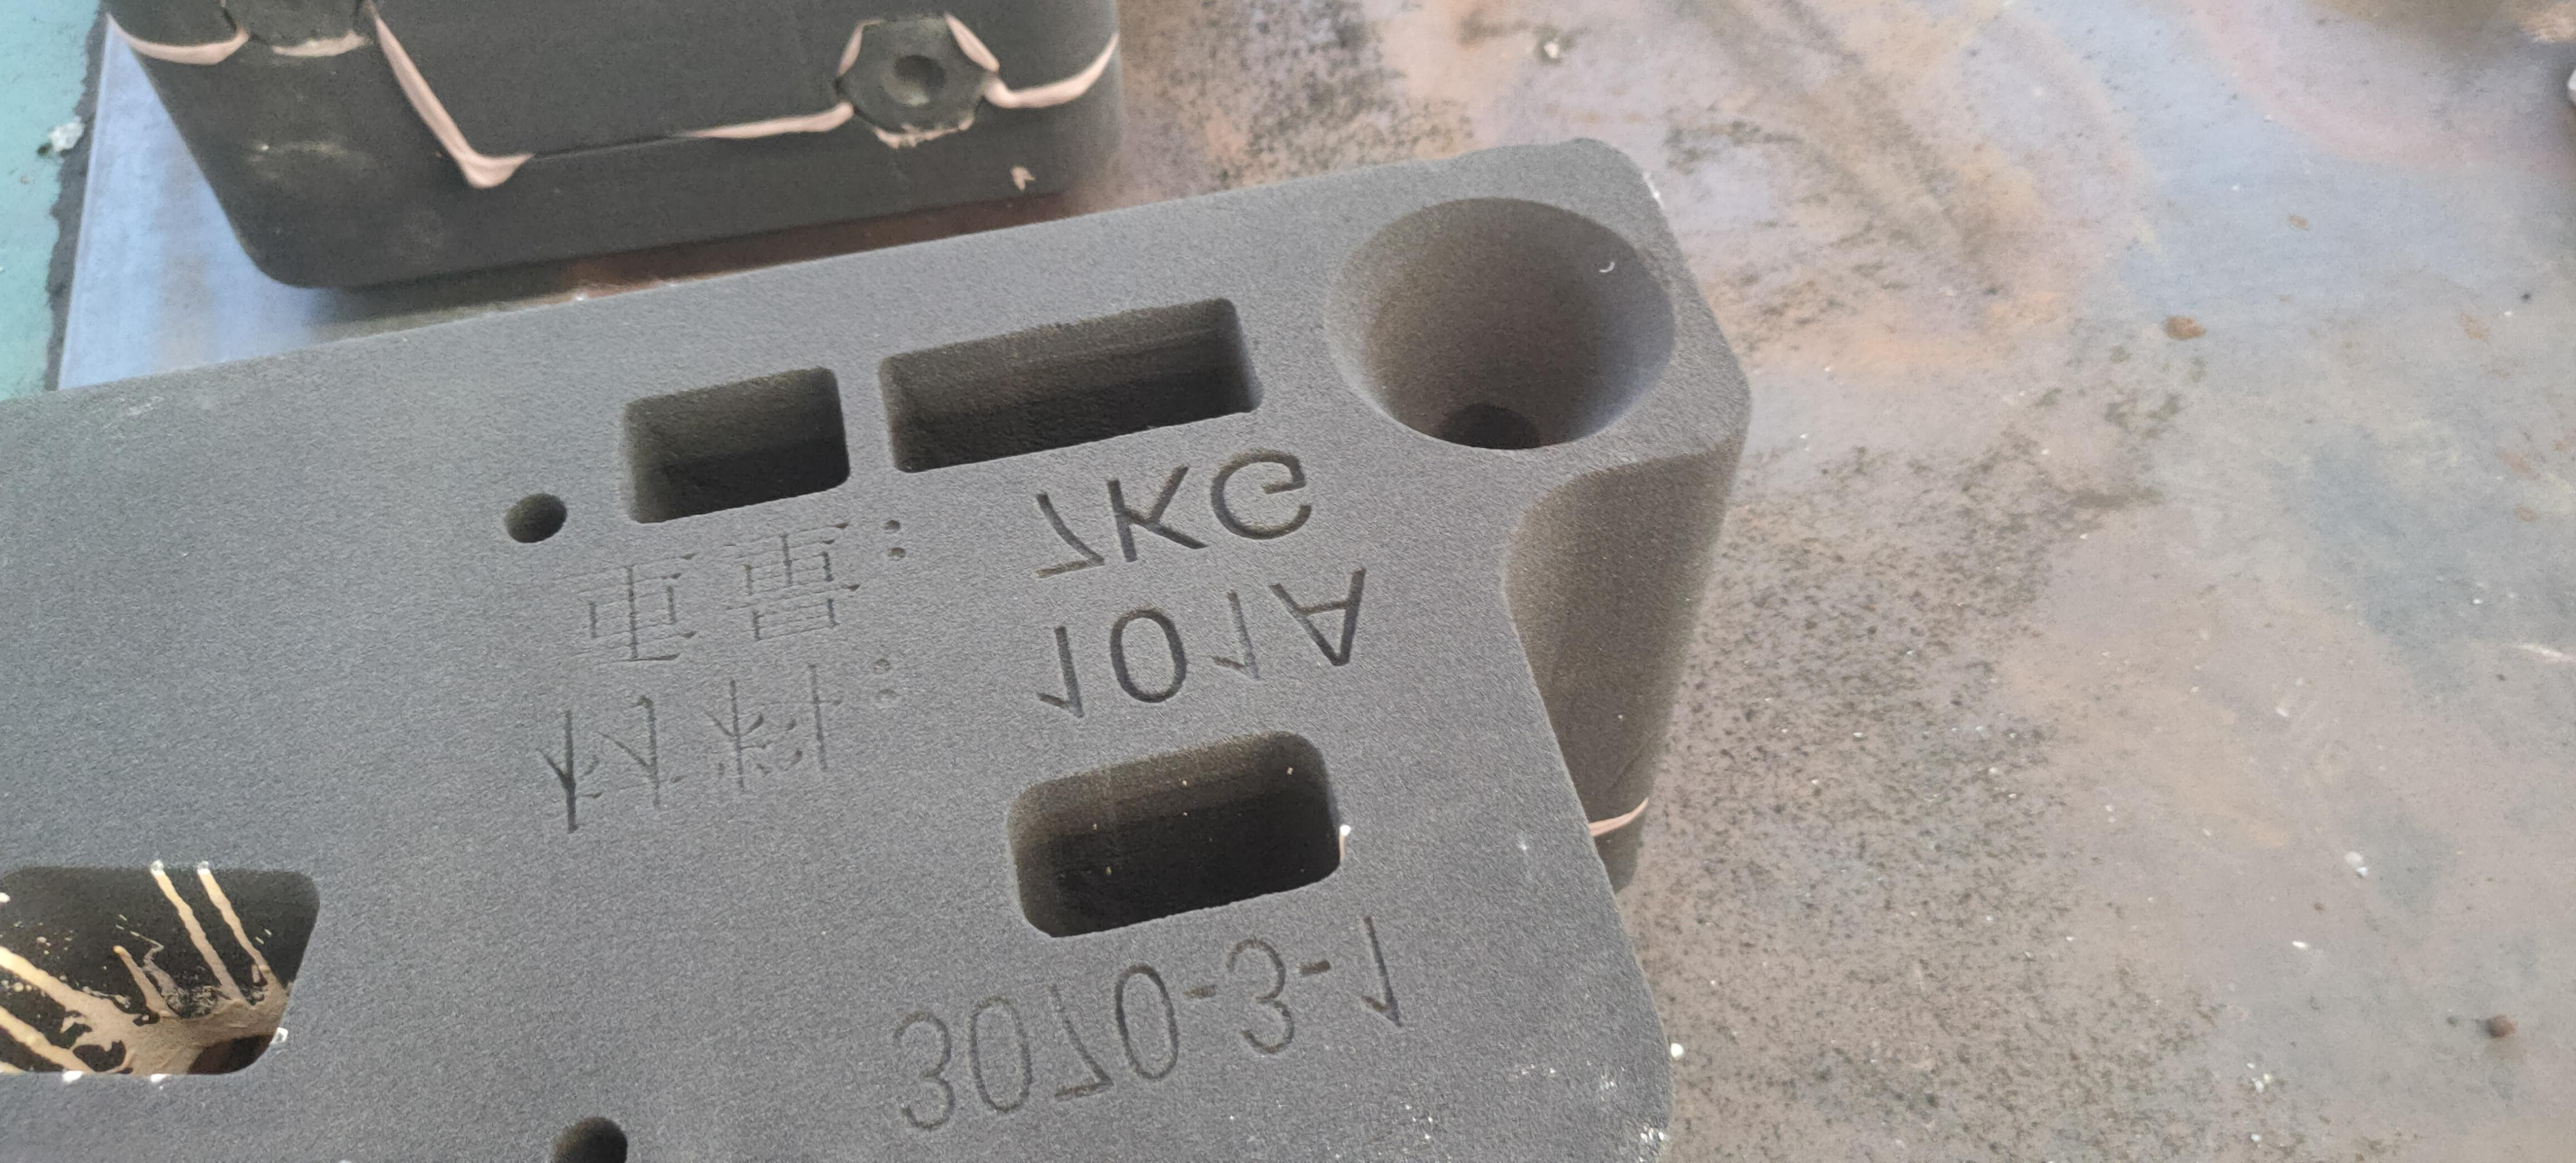pouring hole: (1324, 199, 1676, 453)
